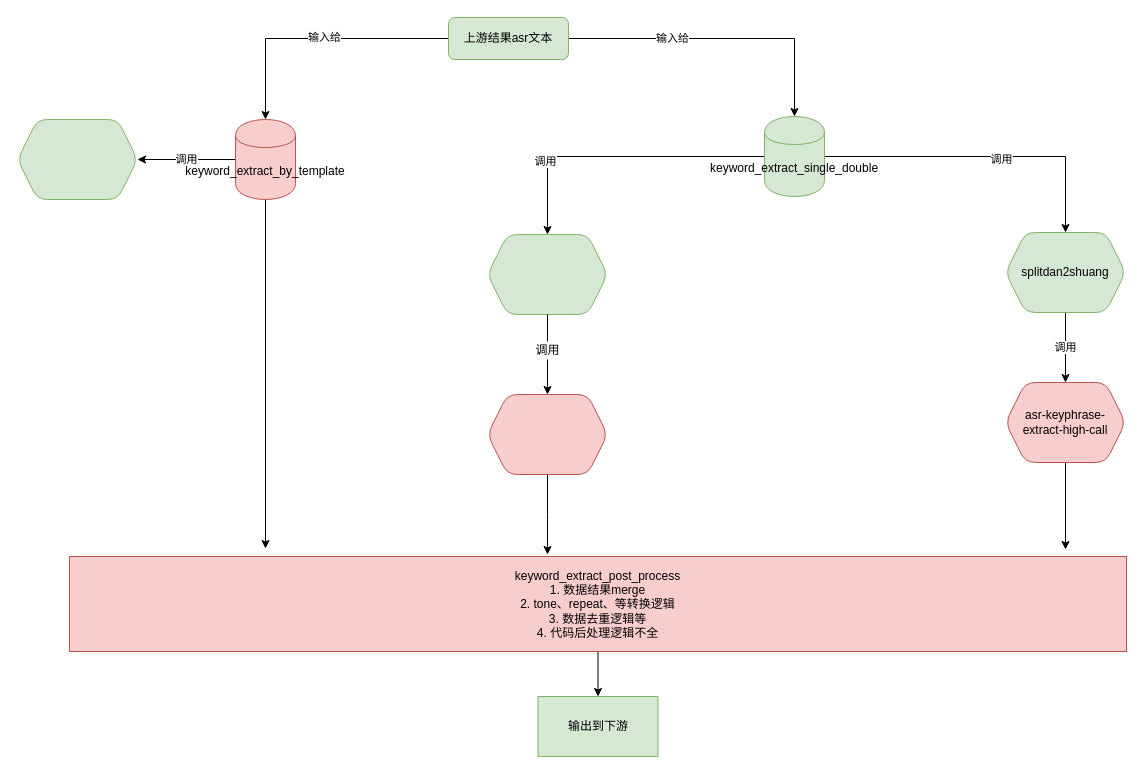
Some shapes in this 1144 by 774 pixel diagram are drawn without their labels. The shapes that lost their labels are listed below. From the top down, each one's centre as x and y in pixels, then its label:
At (77,159): "re-rule-match-keyphrase".
At (547,274): "asr-single-phrase-extract".
At (547,434): "keyphrase-tf-keras".
